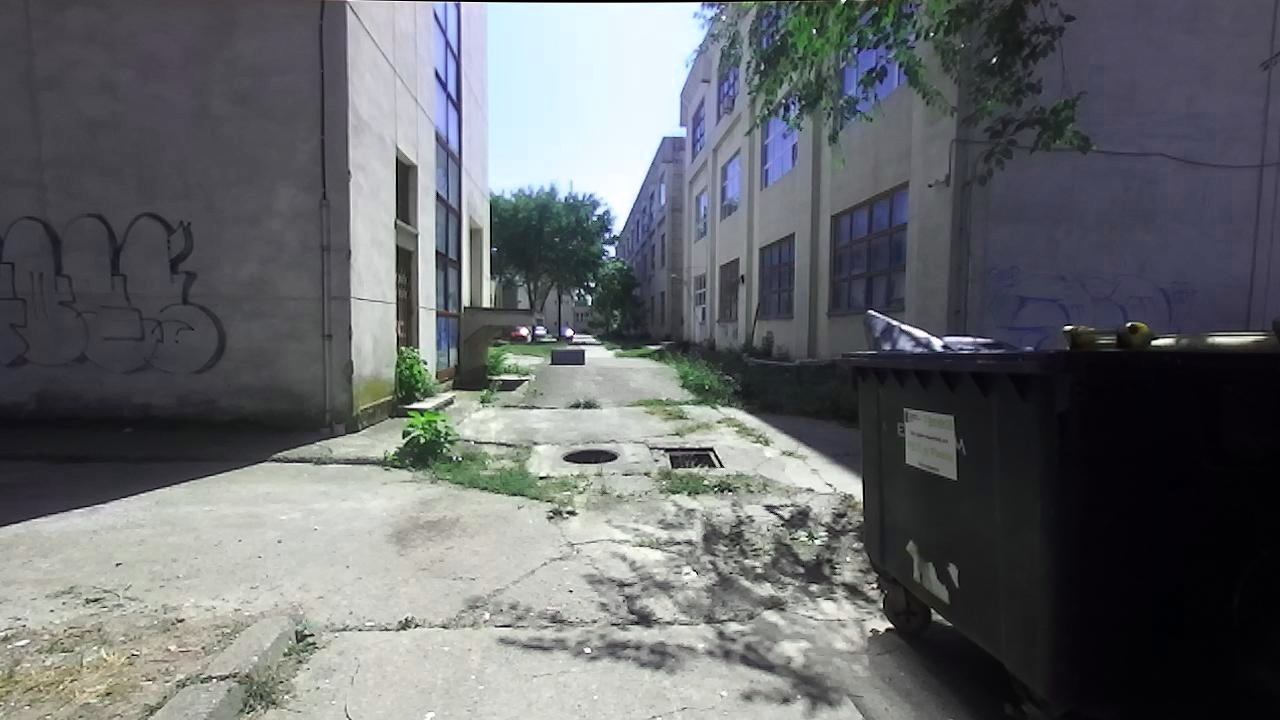drain: (662, 442, 730, 474), (558, 444, 621, 468)
